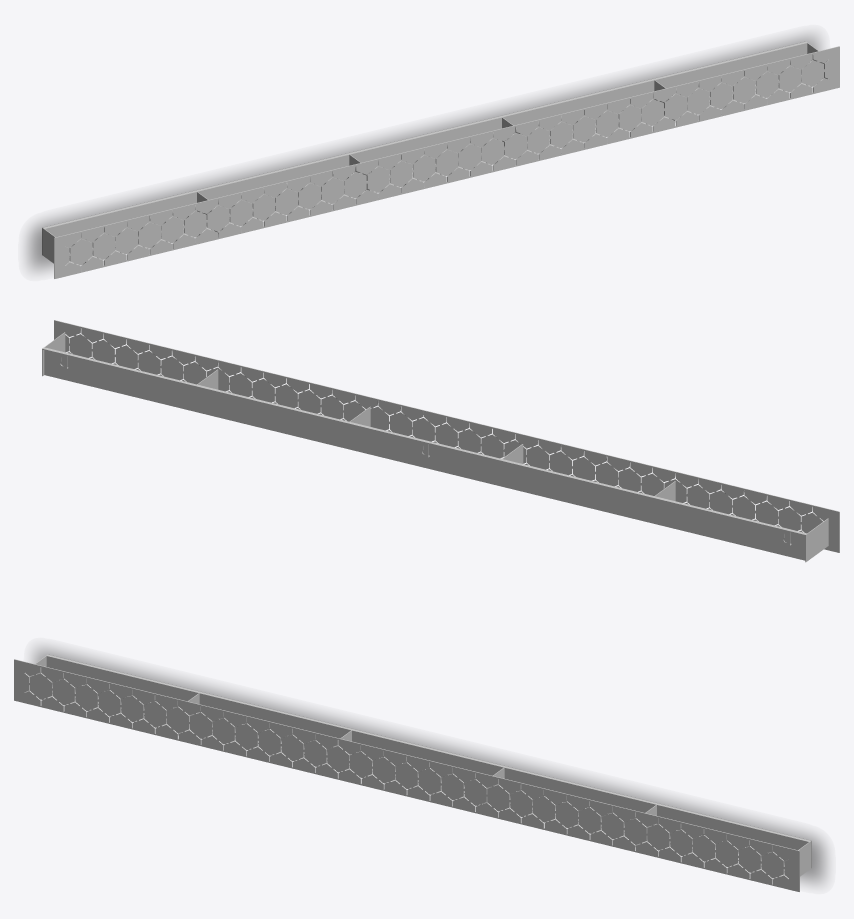
The model's file is bee-mono.0e82e9bd62.ar.glb.
3 views of the same model, one above another, from view 1: azimuth 30°, elevation 25°; view 2: azimuth 150°, elevation 25°; view 3: azimuth 330°, elevation 25° (orthographic).
Parts seen in each view (by area): view 1: NAUO1, object 2; view 2: NAUO1; view 3: NAUO1, object 2.
Part boxes in pixels (box(x1,y1,x2,y2)): NAUO1: box(42, 41, 839, 278); object 2: box(26, 34, 821, 271); NAUO1: box(42, 320, 839, 562); NAUO1: box(14, 654, 811, 891); object 2: box(32, 647, 827, 884).
Size of the model in its own units: 1.88 by 0.17 by 0.092.
2 materials, 1 textured.
